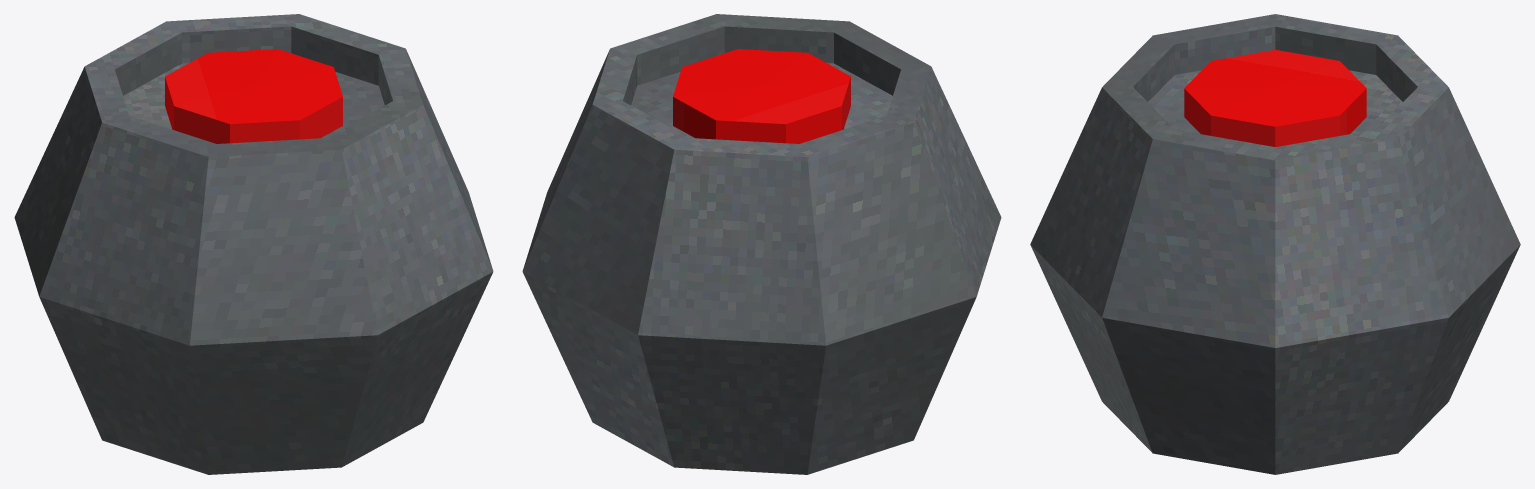
Rendered from bomb.fbx.
The picture shows the model from 3 angles, left to right: view 1: azimuth 30°, elevation 25°; view 2: azimuth 150°, elevation 25°; view 3: azimuth 270°, elevation 25°; orthographic projection.
Visible parts, largest first — view 1: bomb; view 2: bomb; view 3: bomb.
Part boxes in pixels (box(x1,y1,x2,y2)): bomb: box(14, 14, 493, 474); bomb: box(522, 14, 1001, 474); bomb: box(1030, 14, 1520, 474).
Bounding box in the file's own units: 200 × 200 × 142.
Materials: 2 (2 with a texture image).
